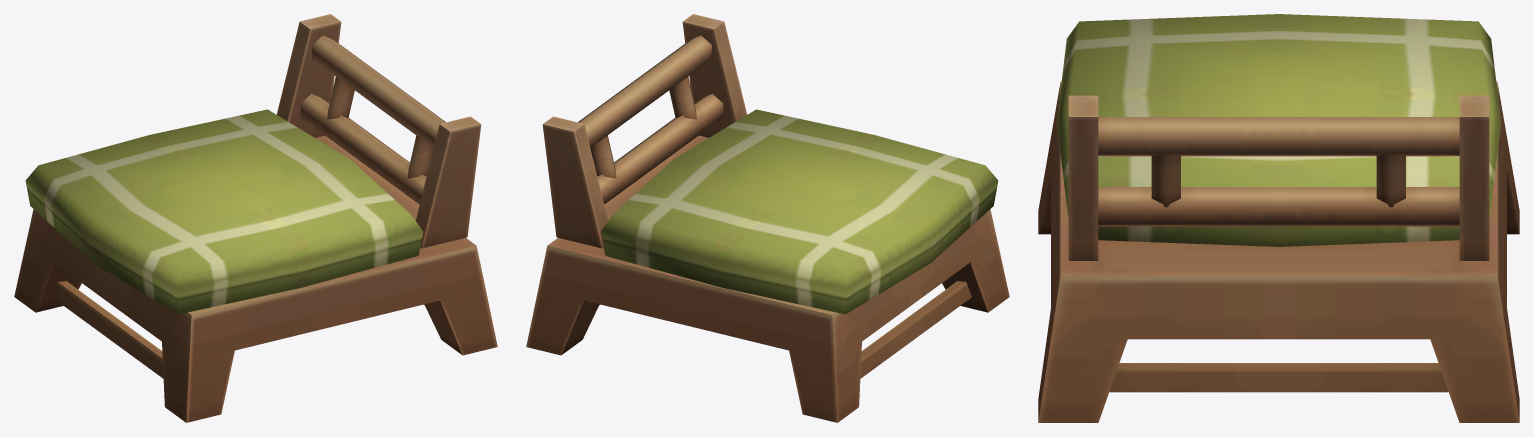
The model's file is my_hyakkiyako_01_chair_01.glb.
3 renders of one model, left to right at view 1: azimuth 30°, elevation 25°; view 2: azimuth 150°, elevation 25°; view 3: azimuth 270°, elevation 25°, orthographic. The views are drawn at different scales.
Parts seen in each view (by area): view 1: my_hyakkiyako_01_chair_01; view 2: my_hyakkiyako_01_chair_01; view 3: my_hyakkiyako_01_chair_01.
Part boxes in pixels (x1,y1,x2,y2): my_hyakkiyako_01_chair_01: (14,14,497,422); my_hyakkiyako_01_chair_01: (526,14,1009,422); my_hyakkiyako_01_chair_01: (1038,14,1519,422).
Bounding box in the file's own units: 0.00409 × 0.00262 × 0.00379.
Materials: 1 (1 with a texture image).
